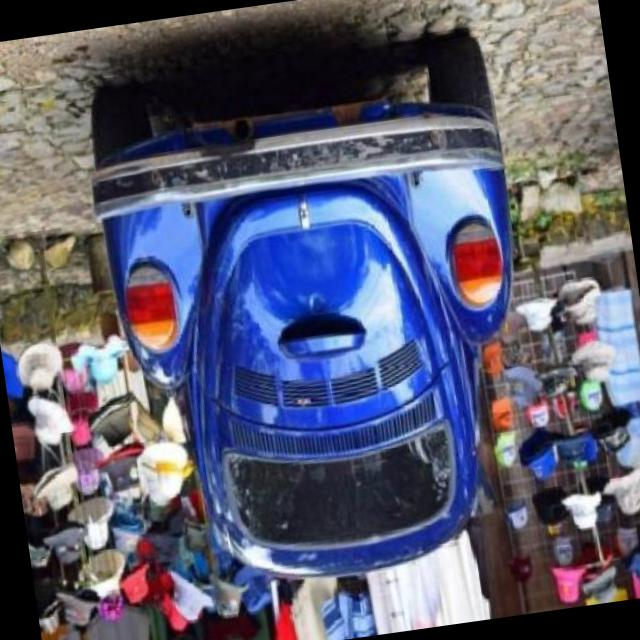car: (85, 36, 563, 586)
